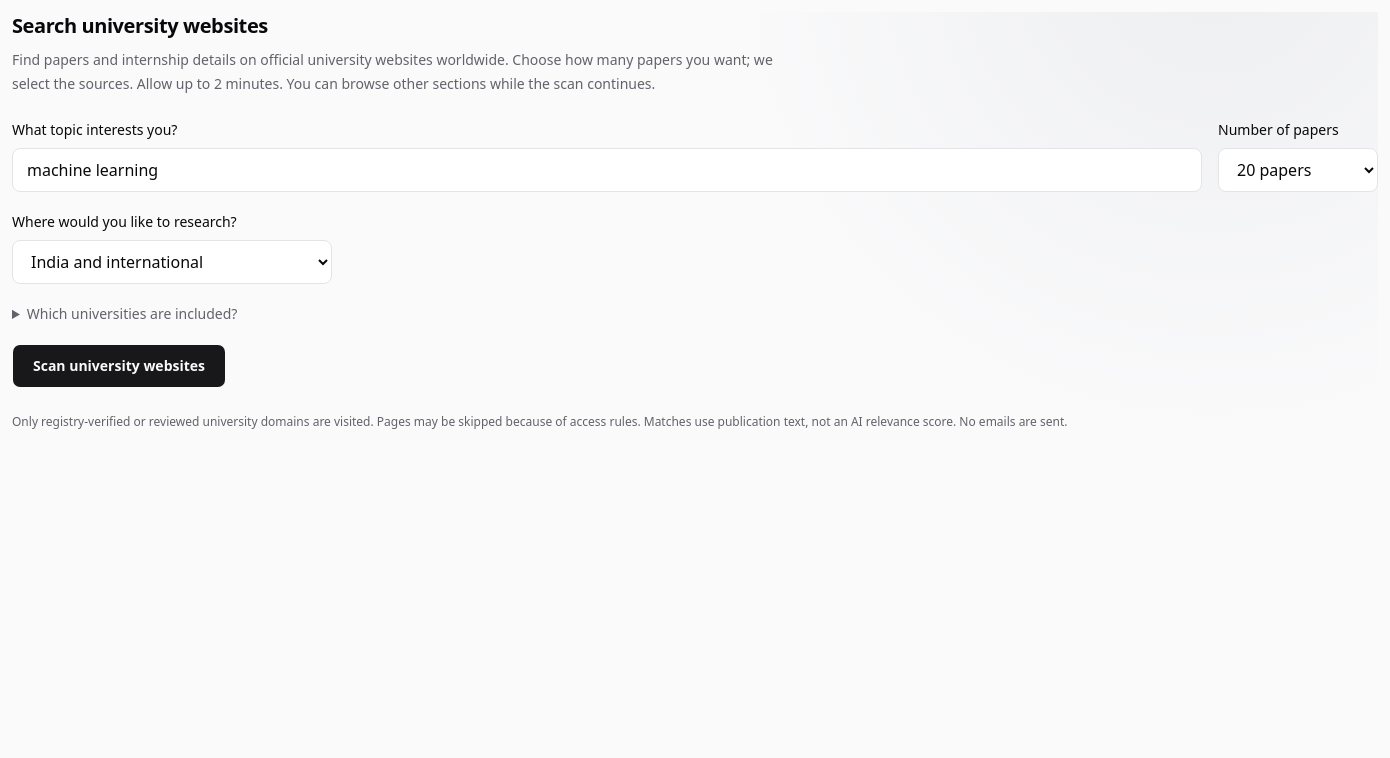
it: cancels an active scan and retains already extracted evidence
This screenshot has width=1390, height=758.
Click the button "Scan university websites": (119, 366) left=12, top=344, right=226, bottom=388
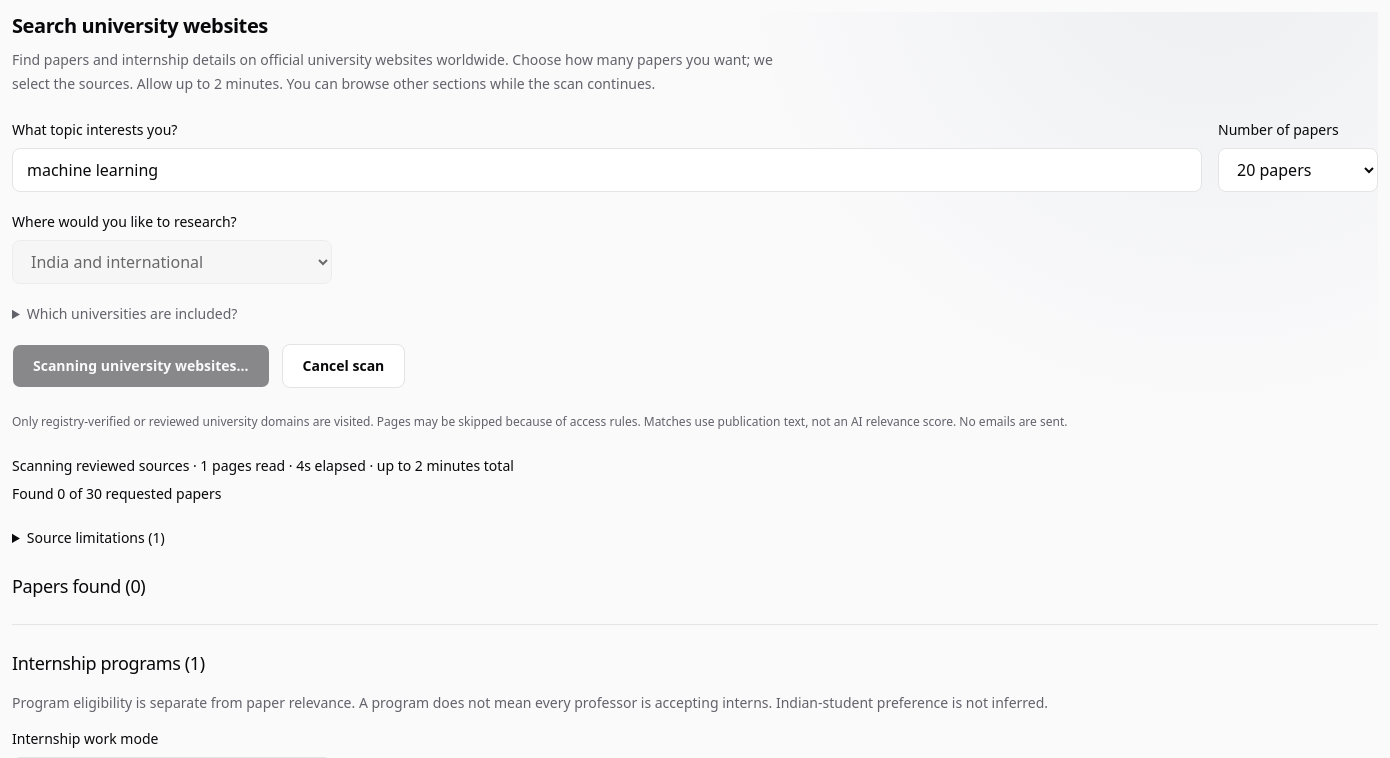
Click the button "Cancel scan": (343, 366) left=282, top=344, right=405, bottom=388
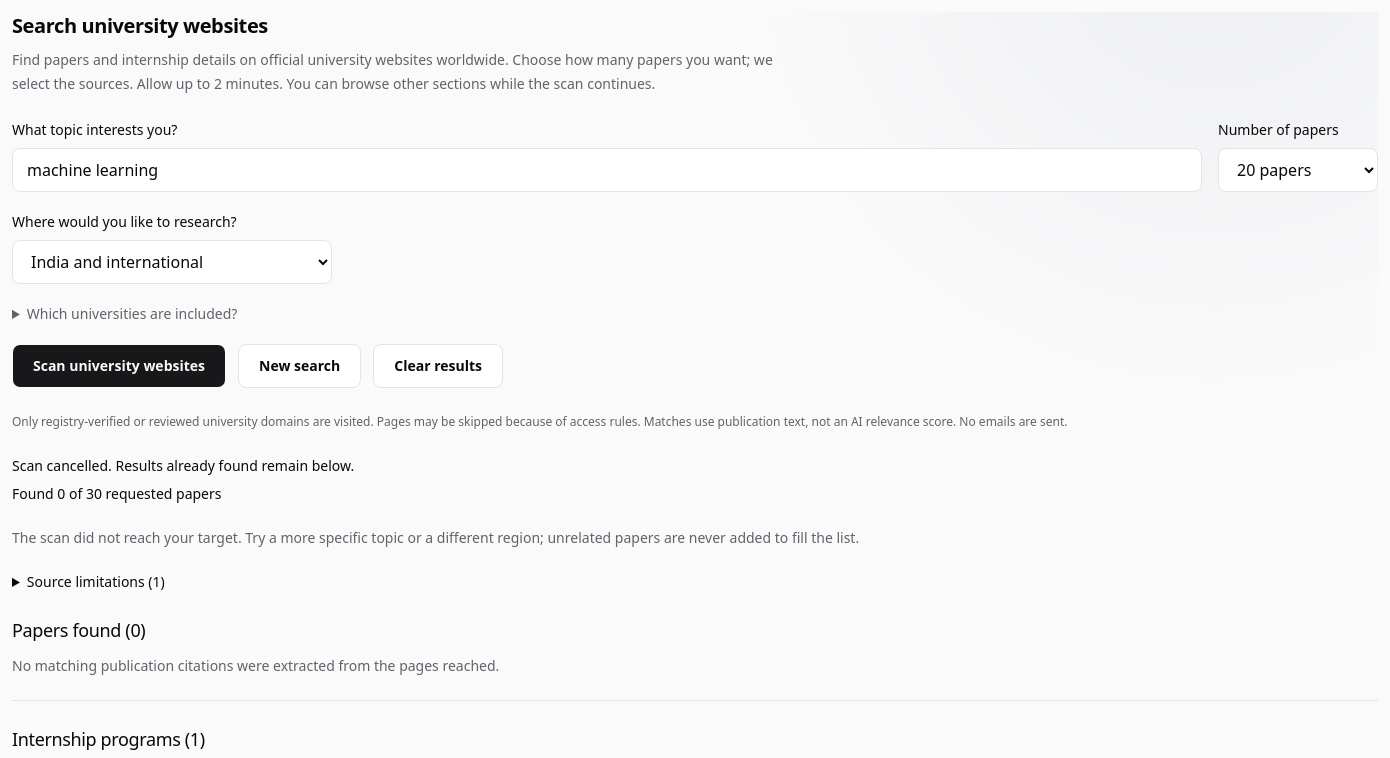
expect the text "Found 0 of 30 requested papers" is shown: met, box left=12, top=484, right=222, bottom=503
expect the text "Scan cancelled" is shown: met, box left=12, top=456, right=354, bottom=475
